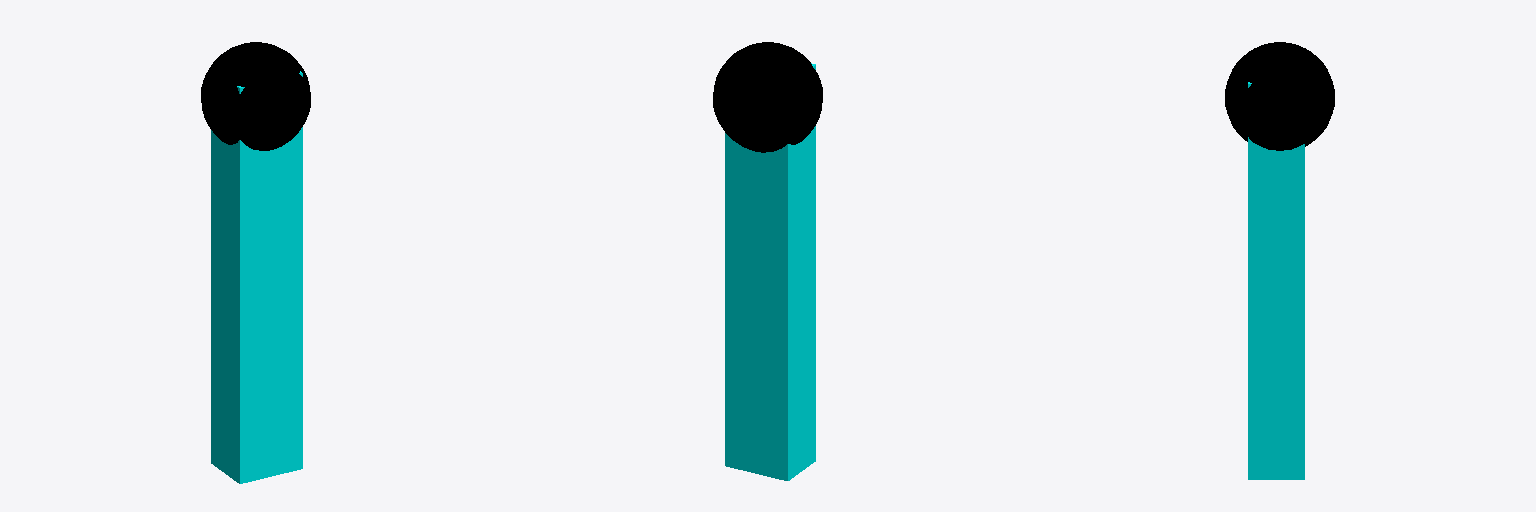
File: leftleg.obj
3 views of the same model, side by side, from view 1: azimuth 30°, elevation 25°; view 2: azimuth 150°, elevation 25°; view 3: azimuth 270°, elevation 25° (orthographic).
Visible parts, largest first — view 1: pCube6, pSphere3; view 2: pCube6, pSphere3; view 3: pCube6, pSphere3.
Part boxes in pixels (left/top/right/bottom): pCube6: left=211, top=71, right=302, bottom=483; pSphere3: left=201, top=42, right=310, bottom=150; pCube6: left=725, top=63, right=815, bottom=480; pSphere3: left=713, top=42, right=822, bottom=152; pCube6: left=1248, top=82, right=1304, bottom=479; pSphere3: left=1225, top=42, right=1334, bottom=150.
Size of the model in its own units: 2.26 by 9.39 by 2.26.